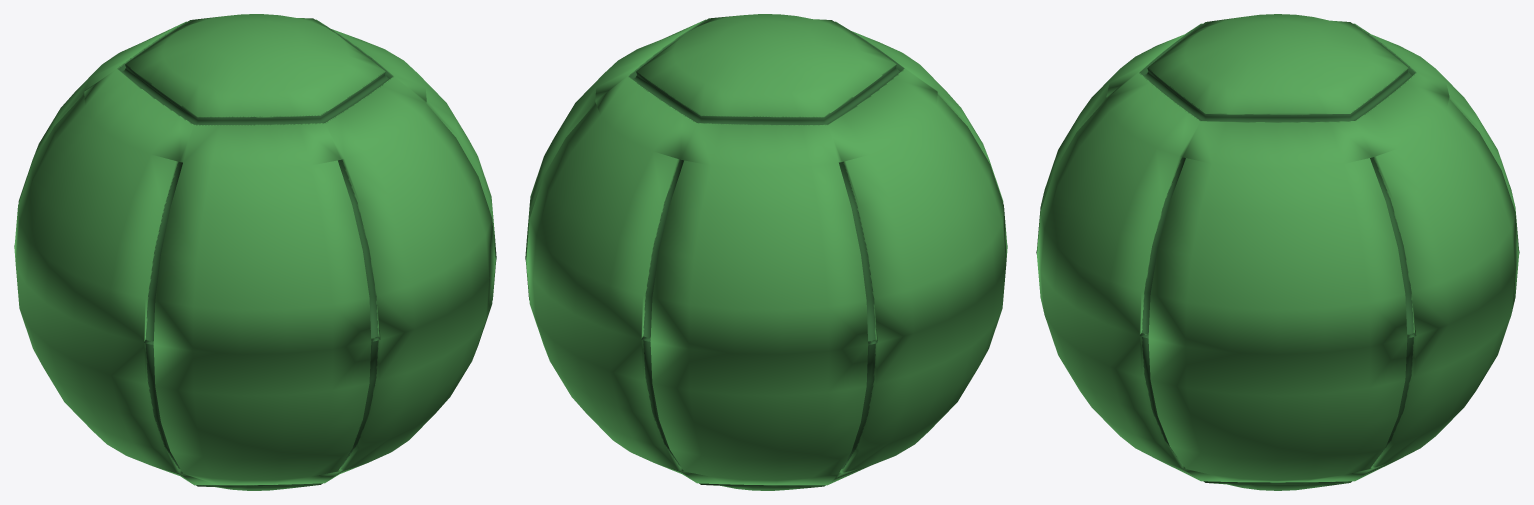
File: steel ball.fbx
The picture shows the model from 3 angles, left to right: view 1: azimuth 30°, elevation 25°; view 2: azimuth 150°, elevation 25°; view 3: azimuth 270°, elevation 25°; orthographic projection.
Parts seen in each view (by area): view 1: Sphere.001; view 2: Sphere.001; view 3: Sphere.001.
Boxes of the visible parts, left/top/right/bottom form: Sphere.001: left=14, top=14, right=496, bottom=490; Sphere.001: left=525, top=14, right=1007, bottom=490; Sphere.001: left=1036, top=14, right=1519, bottom=490.
Size of the model in its own units: 199 by 196 by 199.
1 material, 1 textured.
